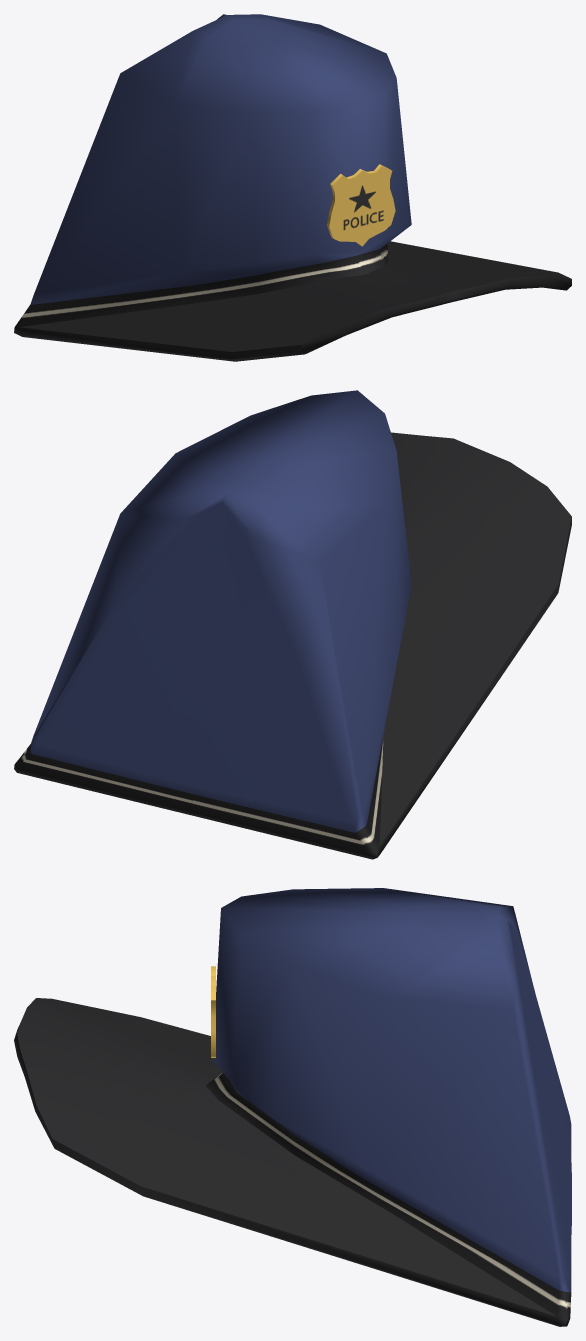
Rendered from tri_policeHat.fbx.
3 views of the same model, one above another, from view 1: azimuth 30°, elevation 25°; view 2: azimuth 150°, elevation 25°; view 3: azimuth 270°, elevation 25° (orthographic). The views are drawn at different scales.
Visible parts, largest first — view 1: tri_policeHat1; view 2: tri_policeHat1; view 3: tri_policeHat1.
Part boxes in pixels (x1=…): tri_policeHat1: x1=14, y1=14, x2=571, y2=361; tri_policeHat1: x1=14, y1=390, x2=571, y2=859; tri_policeHat1: x1=14, y1=888, x2=571, y2=1326.
Bounding box in the file's own units: 2.48 × 2 × 3.09.
1 material, 1 textured.
